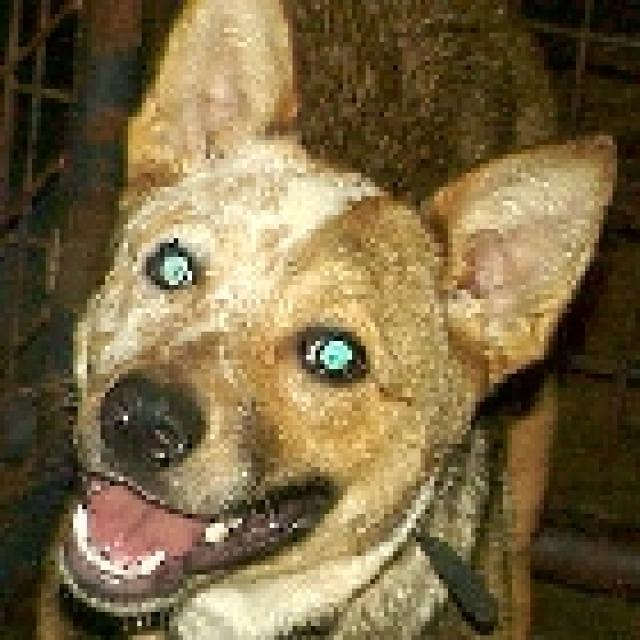dogs: (39, 0, 617, 640)
